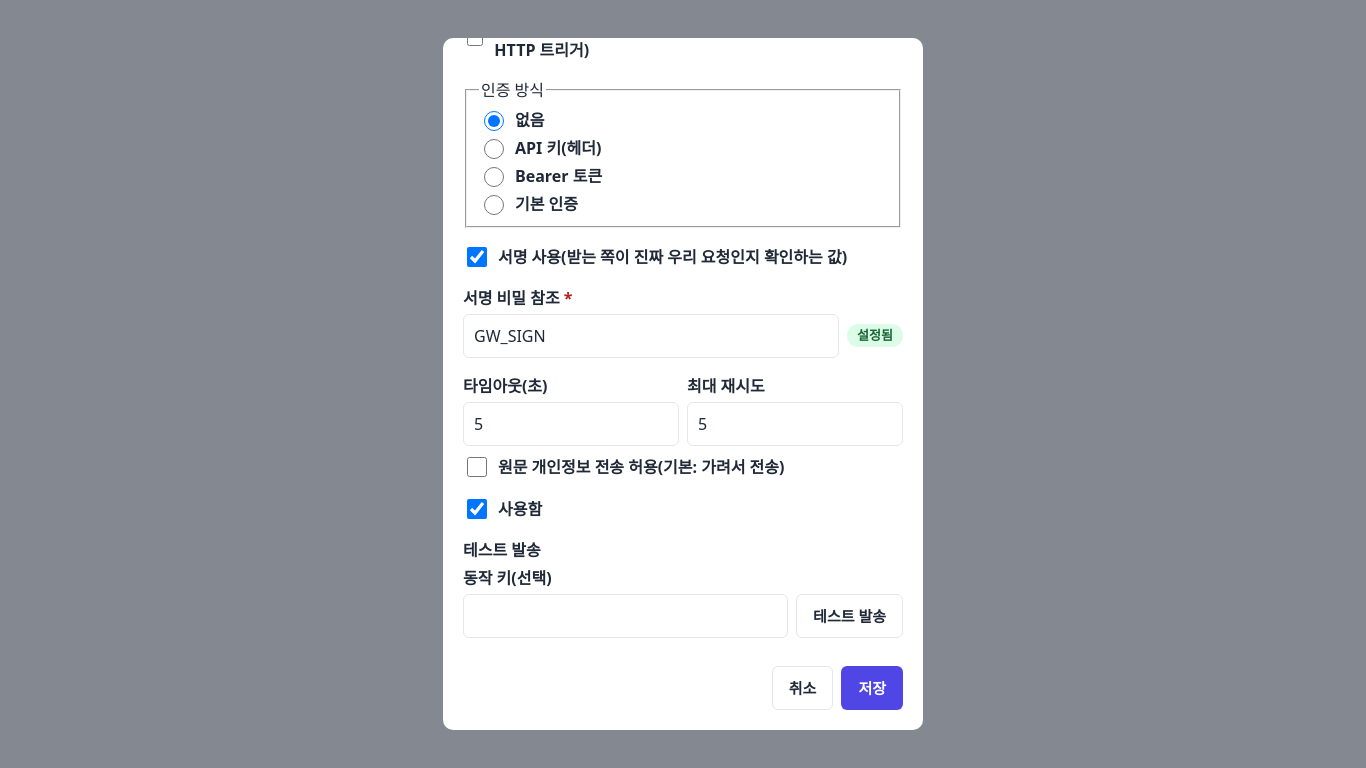
Test: WorkflowTargetEditModal › 테스트 발송 결과는 서버 guidance 문자열을 그대로 보여준다(코드별 재구현 없음)
(page scrolled)
Click the button "테스트 발송" at (850, 616), box [796,594,903,638]
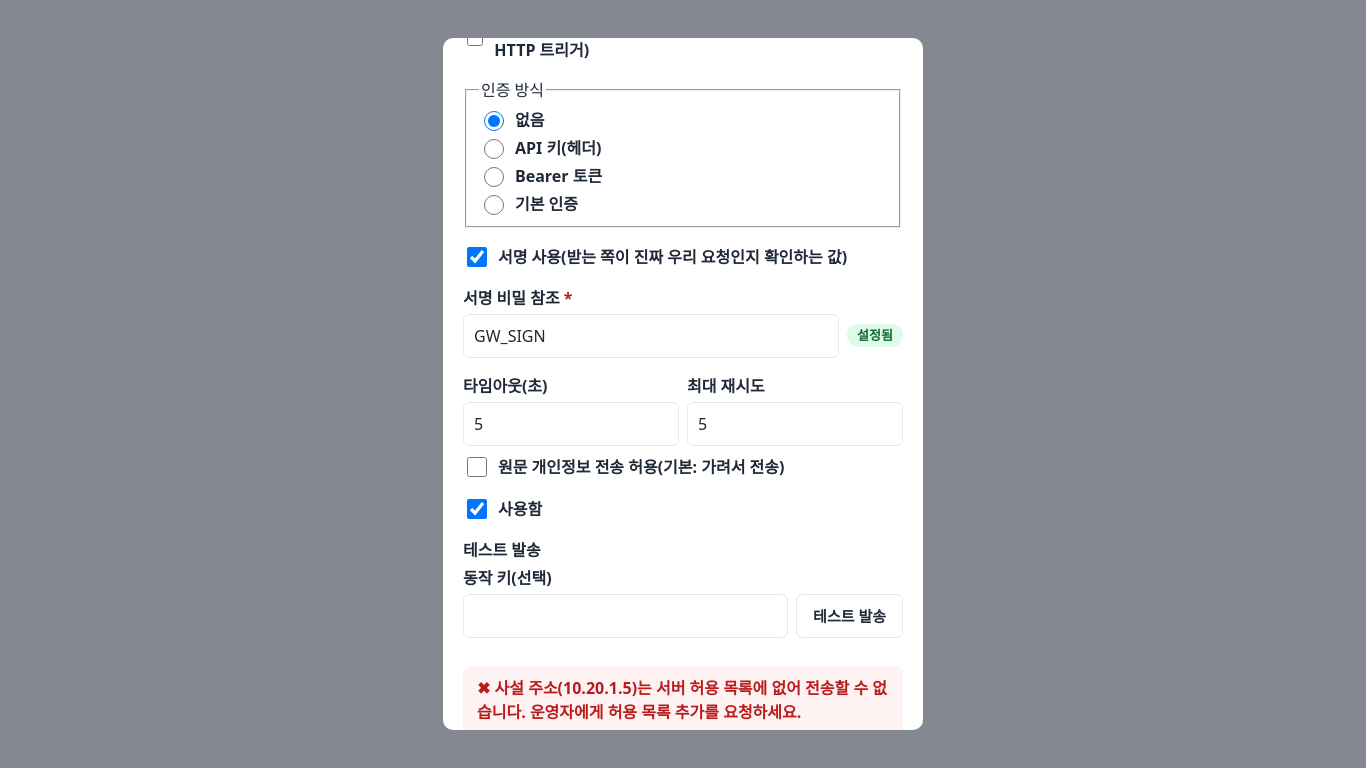
Expected: the text "사설 주소(10.20.1.5)는 서버 허용 목록에 없어 전송할 수 없습니다. 운영자에게 허용 목록 추가를 요청하세요." is shown, [477,676,887,722]
